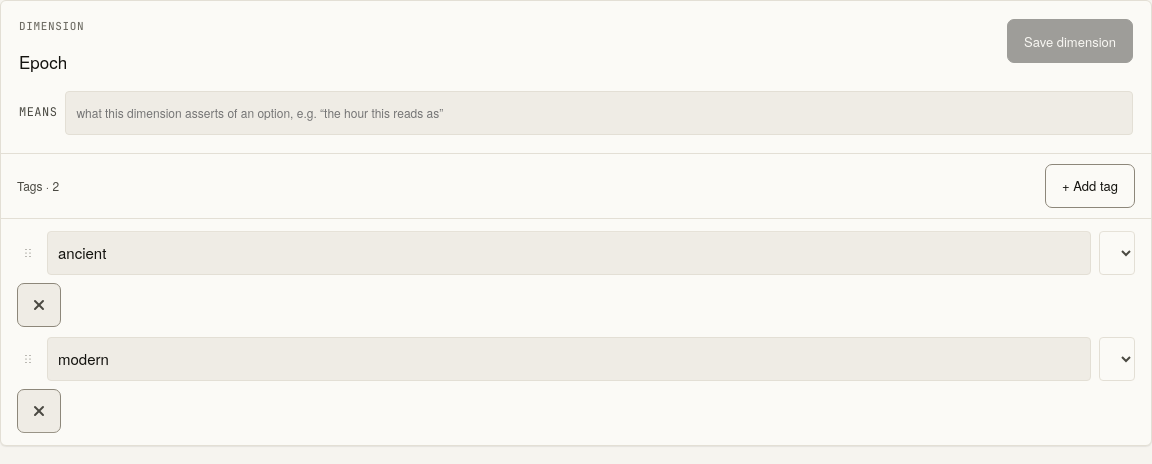
Scenario: DimensionEditor — hierarchy and description › a tag cannot be offered itself as a parent, and picking one marks dirty
Expected: the button "Save dimension" is disabled, [1007,19,1133,63]
Select "↳ modern" in the dropdown named "Parent of ancient" at (1117, 253), box [1099,231,1135,275]
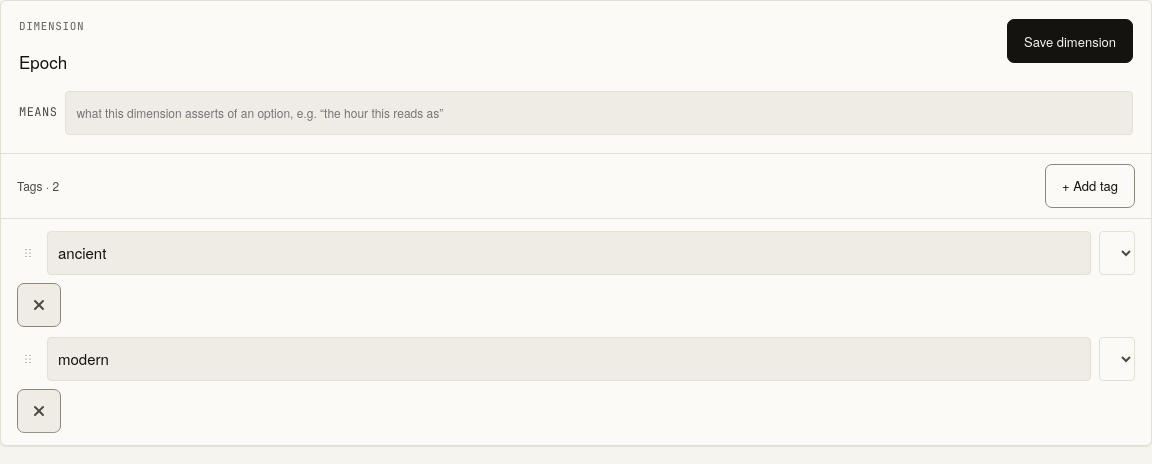
Now the button "Save dimension" is enabled, box [1007,19,1133,63]
